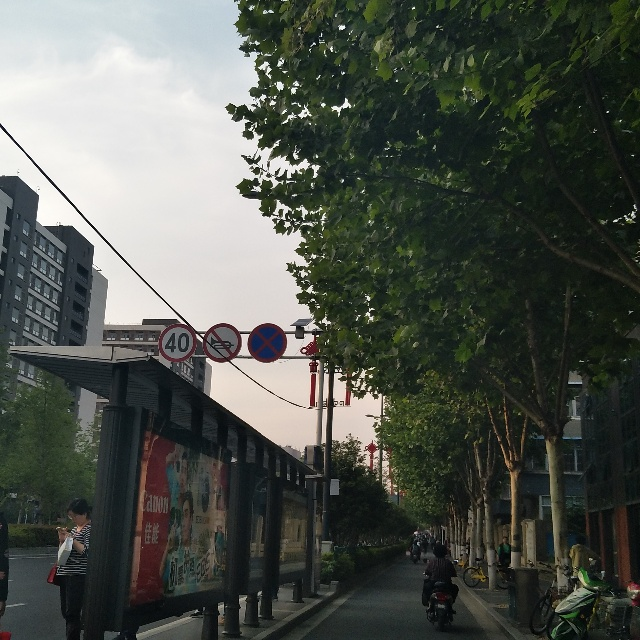nohonk: (203, 326, 238, 362)
stop: (247, 323, 284, 361)
